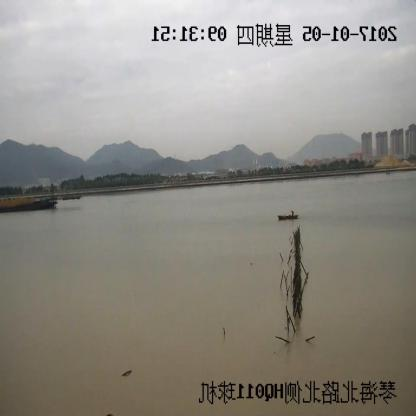Fishing Boat: (278, 210, 298, 220)
